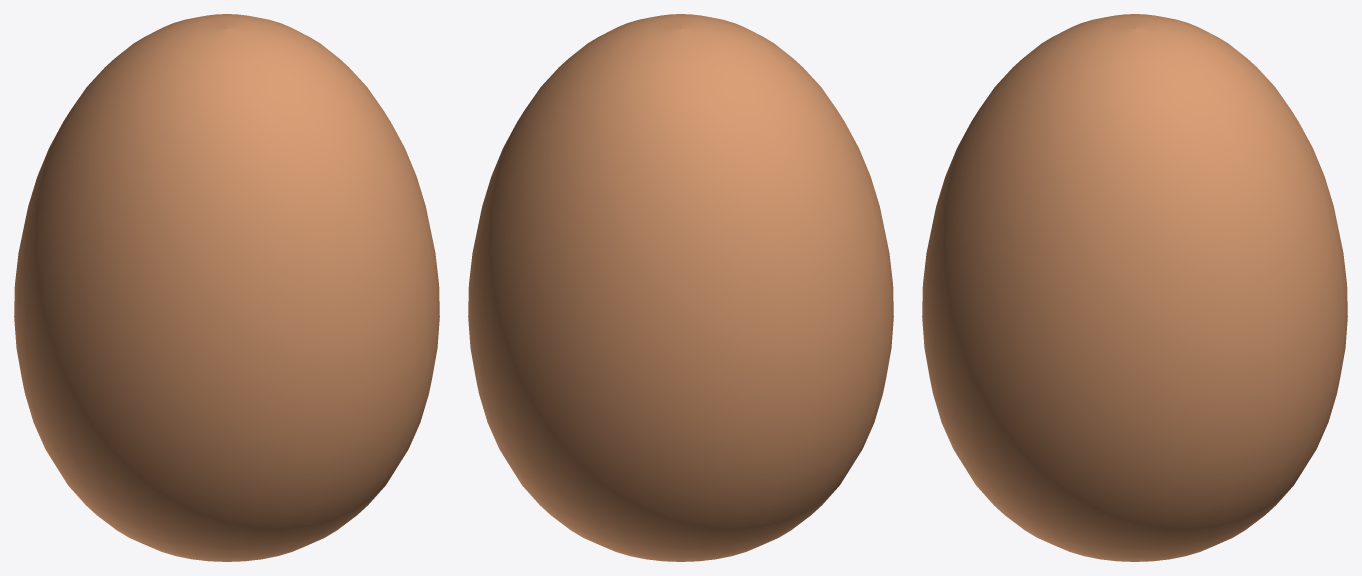
File: egg.gltf
3 renders of one model, left to right at view 1: azimuth 30°, elevation 25°; view 2: azimuth 150°, elevation 25°; view 3: azimuth 270°, elevation 25°, orthographic.
Parts seen in each view (by area): view 1: Egg; view 2: Egg; view 3: Egg.
Boxes of the visible parts, x1,y1,x2,y2 form: Egg: [14, 14, 439, 561]; Egg: [468, 14, 893, 561]; Egg: [922, 14, 1347, 561].
Bounding box in the file's own units: 0.4576 × 0.6077 × 0.4576.
Materials: 1 (1 with a texture image).
